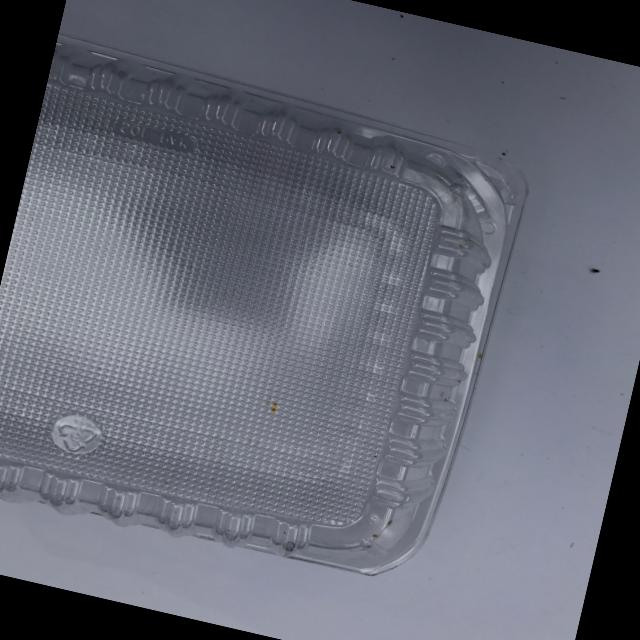Plastic: (0, 15, 545, 603)
